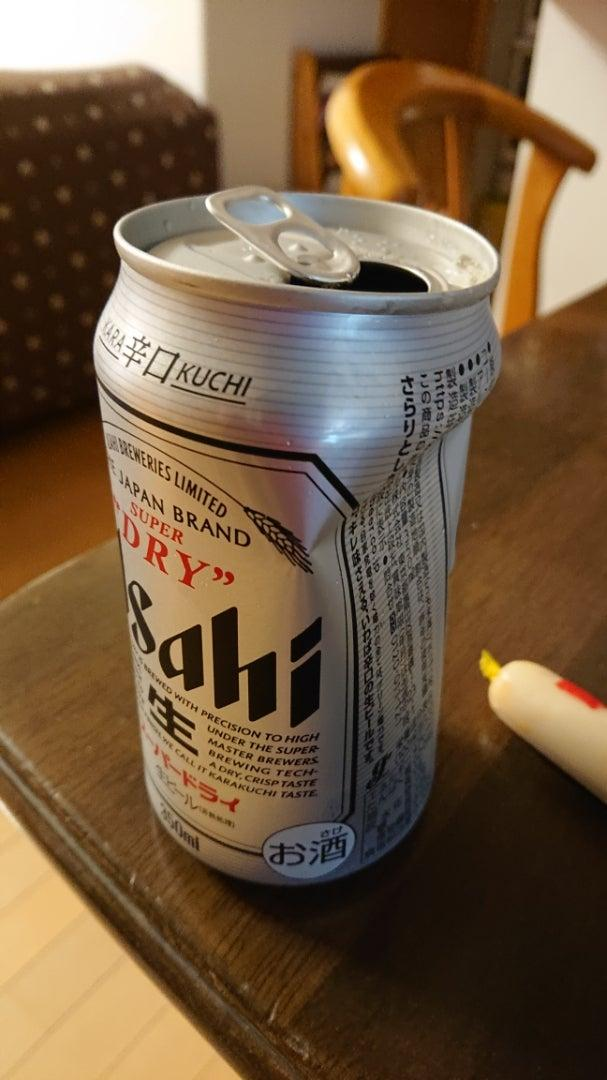metal: (90, 176, 498, 900)
